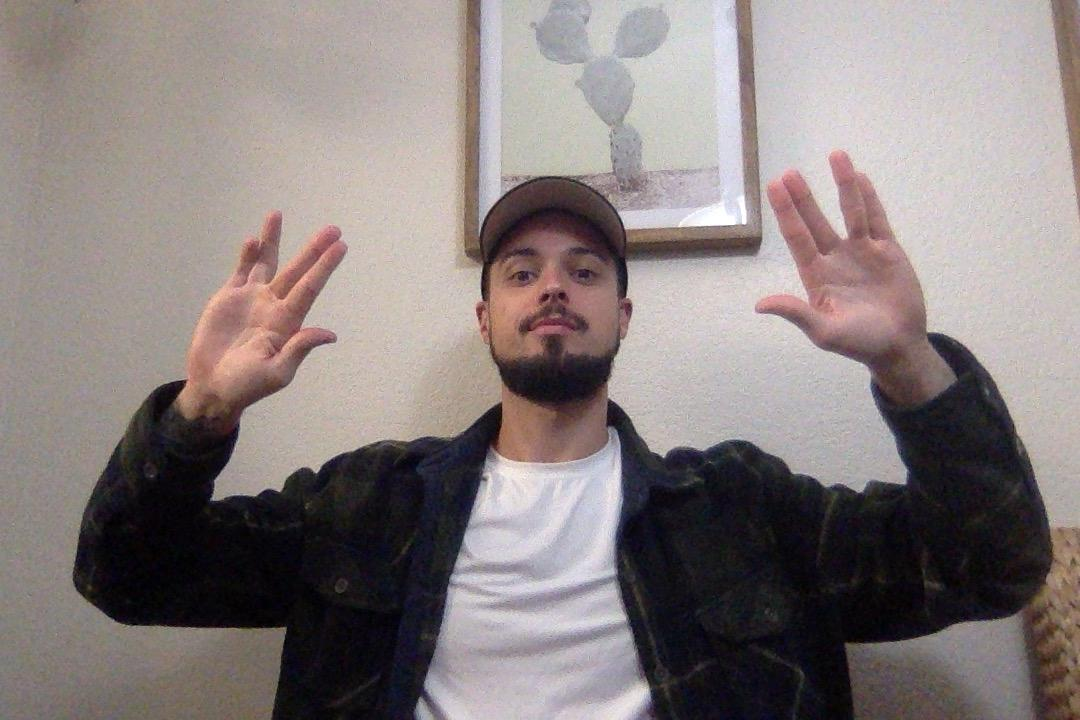Live-Long-Prosper: (754, 143, 928, 388), (170, 213, 353, 411)
